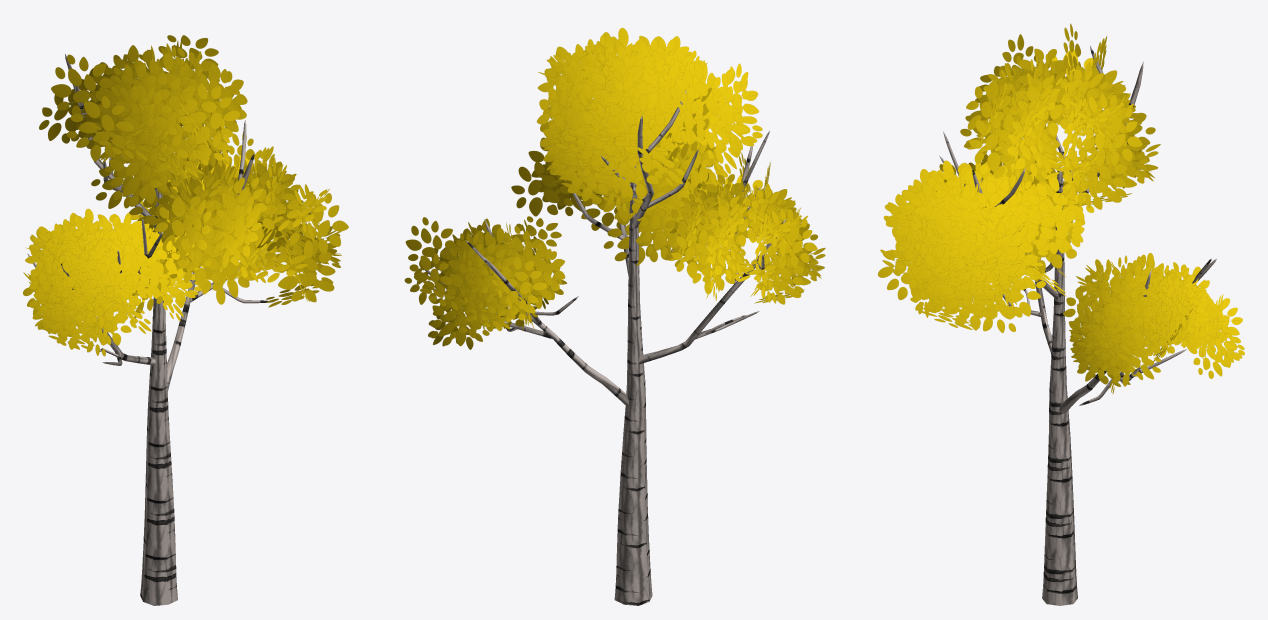
File: Birch_03.glb
3 renders of one model, left to right at view 1: azimuth 30°, elevation 25°; view 2: azimuth 150°, elevation 25°; view 3: azimuth 270°, elevation 25°, orthographic. The views are drawn at different scales.
Visible parts, largest first — view 1: BirchTree_5; view 2: BirchTree_5; view 3: BirchTree_5.
Boxes of the visible parts, <box> form: BirchTree_5: <box>23,35,348,605</box>; BirchTree_5: <box>404,28,825,605</box>; BirchTree_5: <box>878,23,1244,605</box>.
Size of the model in its own units: 3.58 by 5.52 by 3.51.
Materials: 2 (2 with a texture image).
